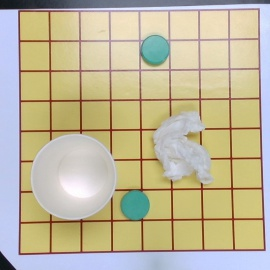cup: (30, 133, 116, 221)
green: (121, 191, 151, 219), (142, 35, 168, 63)
